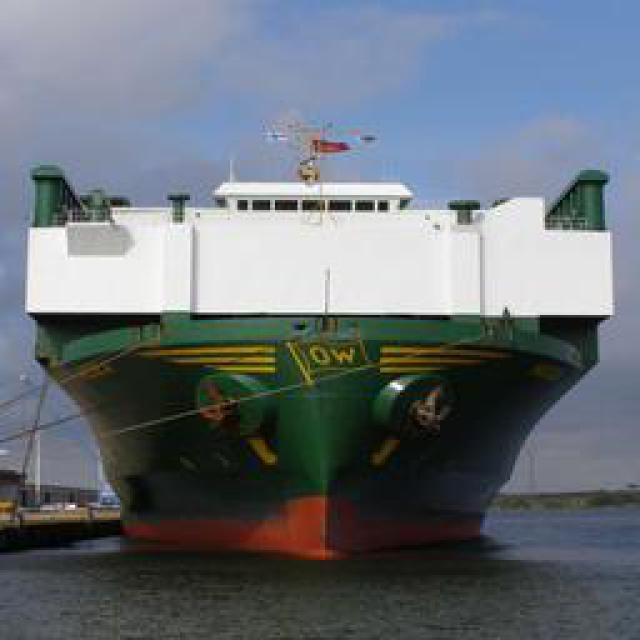Ship: (18, 117, 626, 550)
